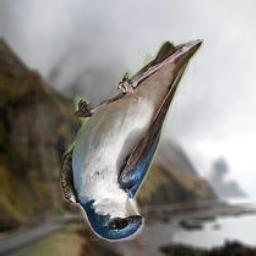Swallow: (60, 39, 204, 243)
